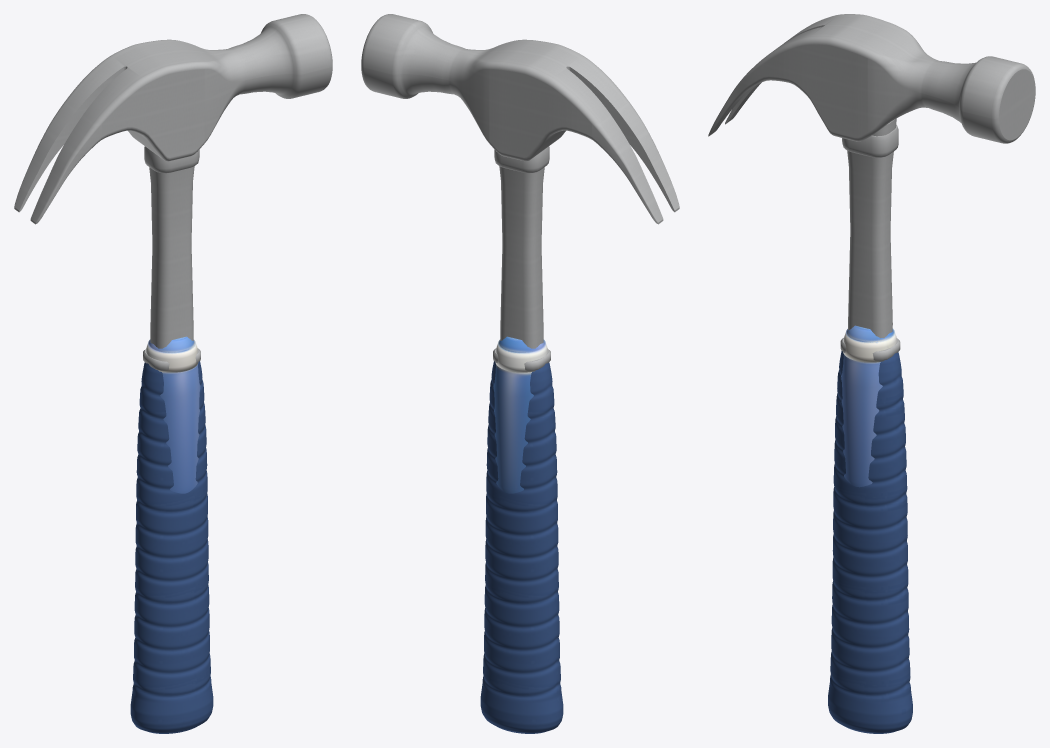
Rendered from tools.glb.
3 views of the same model, side by side, from view 1: azimuth 30°, elevation 25°; view 2: azimuth 150°, elevation 25°; view 3: azimuth 330°, elevation 25° (orthographic). The views are drawn at different scales.
Parts seen in each view (by area): view 1: hammer, awl; view 2: hammer, awl; view 3: hammer, awl.
Boxes of the visible parts, <box> form: hammer: <box>14,14,332,733</box>; awl: <box>146,336,200,493</box>; hammer: <box>361,14,679,733</box>; awl: <box>493,336,547,493</box>; hammer: <box>708,14,1035,733</box>; awl: <box>841,325,896,487</box>.
Size of the model in its own units: 0.1167 by 0.2587 by 0.0279.
Materials: 7 (7 with a texture image).
